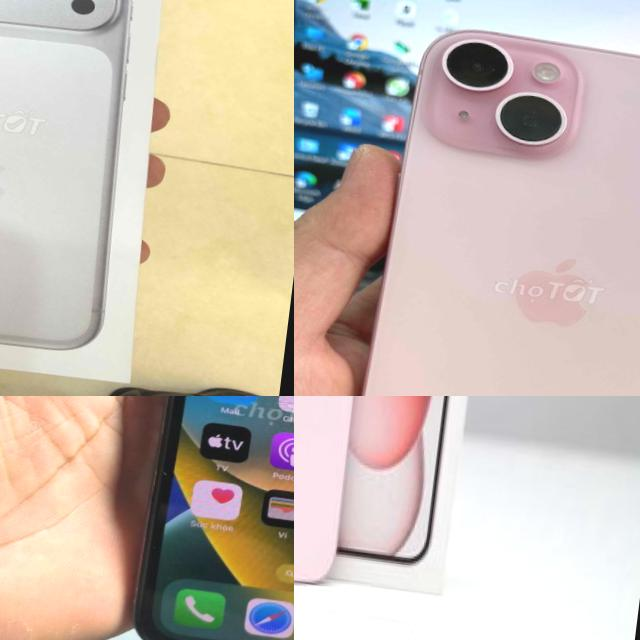gen_15: (334, 0, 640, 396), (294, 396, 392, 595)
gen_17: (0, 0, 164, 376)
gen_x_xs: (121, 396, 294, 640)
